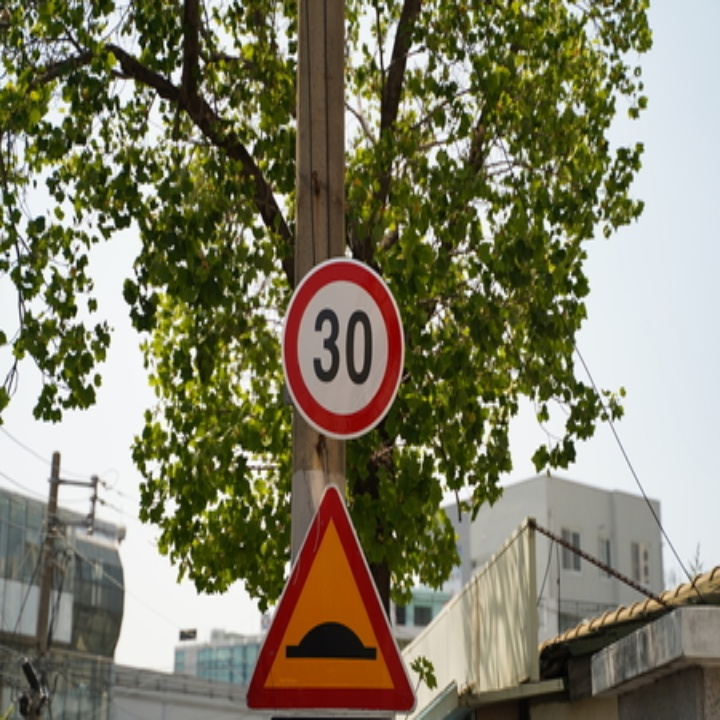bump: (236, 487, 419, 713)
